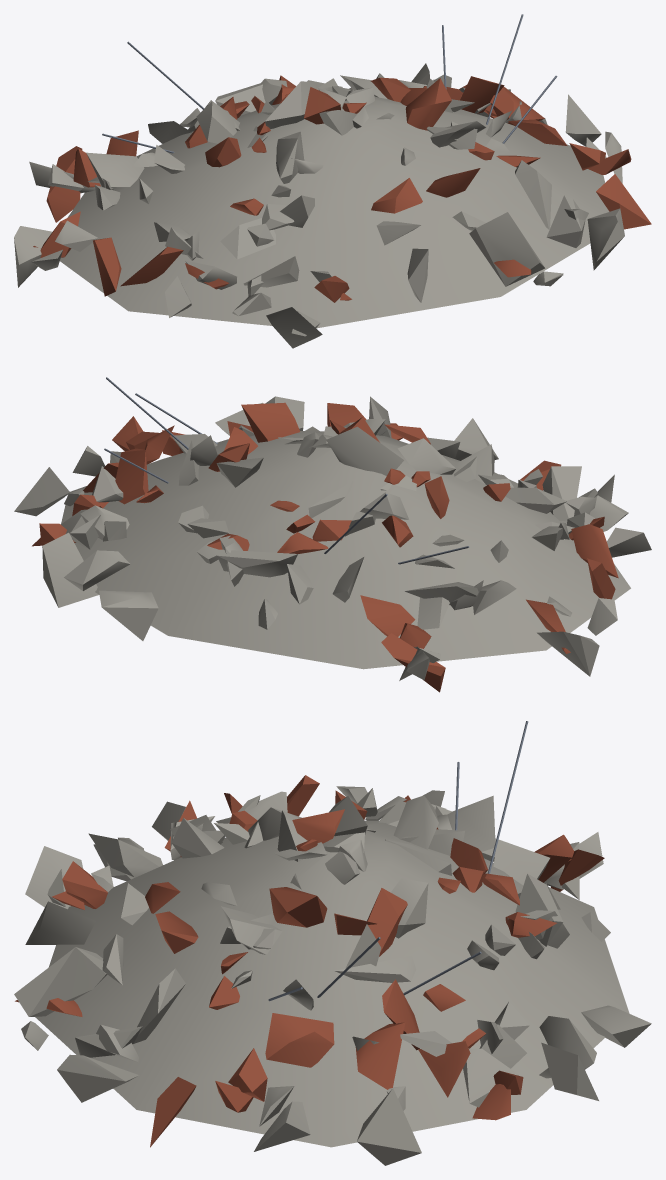
File: demolition.heap.concrete_large.glb
3 views of the same model, one above another, from view 1: azimuth 30°, elevation 25°; view 2: azimuth 150°, elevation 25°; view 3: azimuth 270°, elevation 25° (orthographic). The views are drawn at different scales.
Parts seen in each view (by area): view 1: main__concrete, main__brick, main__steel_painted; view 2: main__concrete, main__brick, main__steel_painted; view 3: main__concrete, main__brick, main__steel_painted.
Boxes of the visible parts, box(x1,y1,x2,y2) form: main__concrete: box(14, 63, 624, 348); main__brick: box(33, 75, 651, 302); main__steel_painted: box(102, 14, 557, 153); main__concrete: box(14, 396, 651, 680); main__brick: box(32, 402, 618, 692); main__steel_painted: box(104, 377, 469, 564); main__concrete: box(14, 786, 651, 1165); main__brick: box(15, 775, 604, 1147); main__steel_painted: box(268, 721, 528, 1001).
Bounding box in the file's own units: 7.79 × 2.28 × 6.06.
